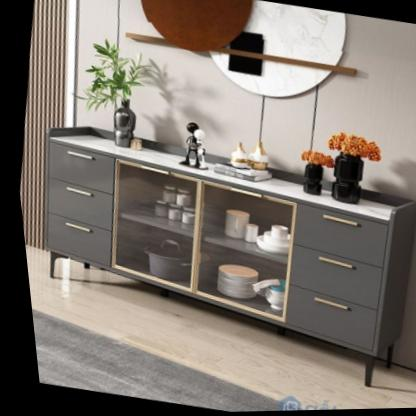Cupboard: (39, 127, 414, 390)
